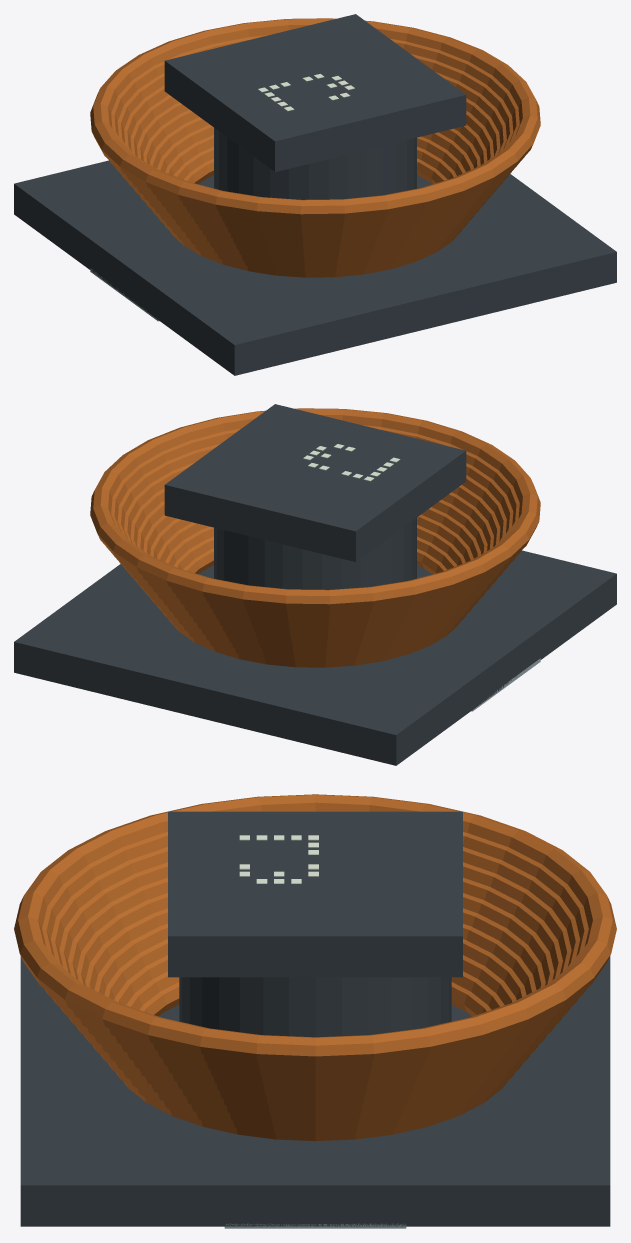
File: 15_L97_L3_Inductor.fbx
The picture shows the model from 3 angles, top to bottom: view 1: azimuth 30°, elevation 25°; view 2: azimuth 150°, elevation 25°; view 3: azimuth 270°, elevation 25°; orthographic projection. The views are drawn at different scales.
Parts seen in each view (by area): view 1: L3_base, L3_core_top, L3_copper_turn_11, L3_ferrite_inner, L3_copper_turn_10, L3_copper_turn_9, L3_copper_turn_8, L3_copper_turn_7, L3_copper_turn_6, L3_copper_turn_4, L3_copper_turn_3, L3_copper_turn_5 (+3 smaller); view 2: L3_base, L3_core_top, L3_copper_turn_11, L3_ferrite_inner, L3_copper_turn_10, L3_copper_turn_9, L3_copper_turn_8, L3_copper_turn_7, L3_copper_turn_6, L3_copper_turn_4, L3_copper_turn_3, L3_copper_turn_5 (+3 smaller); view 3: L3_base, L3_core_top, L3_copper_turn_11, L3_ferrite_inner, L3_copper_turn_10, L3_copper_turn_9, L3_copper_turn_8, L3_copper_turn_7, L3_copper_turn_6, L3_copper_turn_5, L3_copper_turn_4, L3_copper_turn_3 (+4 smaller).
Part boxes in pixels (bbox=[...]): L3_base: bbox=[14, 160, 616, 375]; L3_core_top: bbox=[164, 14, 466, 171]; L3_copper_turn_11: bbox=[90, 18, 540, 219]; L3_ferrite_inner: bbox=[214, 128, 416, 199]; L3_copper_turn_10: bbox=[109, 35, 524, 224]; L3_copper_turn_9: bbox=[116, 53, 516, 230]; L3_copper_turn_8: bbox=[122, 72, 510, 235]; L3_copper_turn_7: bbox=[128, 95, 505, 240]; L3_copper_turn_6: bbox=[134, 102, 499, 245]; L3_copper_turn_4: bbox=[146, 117, 486, 256]; L3_copper_turn_3: bbox=[152, 124, 480, 261]; L3_copper_turn_5: bbox=[140, 109, 492, 251]; L3_base: bbox=[14, 550, 616, 765]; L3_core_top: bbox=[164, 404, 466, 561]; L3_copper_turn_11: bbox=[90, 408, 540, 609]; L3_ferrite_inner: bbox=[214, 518, 416, 589]; L3_copper_turn_10: bbox=[106, 425, 521, 614]; L3_copper_turn_9: bbox=[114, 443, 514, 620]; L3_copper_turn_8: bbox=[120, 462, 508, 625]; L3_copper_turn_7: bbox=[125, 485, 502, 630]; L3_copper_turn_6: bbox=[131, 492, 496, 635]; L3_copper_turn_4: bbox=[144, 507, 484, 646]; L3_copper_turn_3: bbox=[150, 514, 478, 651]; L3_copper_turn_5: bbox=[138, 499, 490, 641]; L3_base: bbox=[20, 956, 610, 1226]; L3_core_top: bbox=[168, 811, 462, 977]; L3_copper_turn_11: bbox=[14, 794, 616, 1063]; L3_ferrite_inner: bbox=[179, 977, 451, 1037]; L3_copper_turn_10: bbox=[42, 832, 588, 1070]; L3_copper_turn_9: bbox=[50, 847, 580, 1077]; L3_copper_turn_8: bbox=[59, 862, 571, 1084]; L3_copper_turn_7: bbox=[68, 877, 562, 1091]; L3_copper_turn_6: bbox=[76, 893, 554, 1098]; L3_copper_turn_5: bbox=[84, 908, 546, 1105]; L3_copper_turn_4: bbox=[92, 924, 538, 1112]; L3_copper_turn_3: bbox=[100, 939, 530, 1119].
Bounding box in the file's own units: 0.0133 × 0.00565 × 0.0133.
